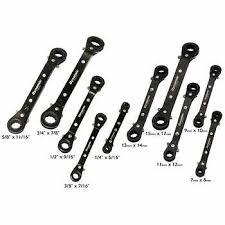wrench: (38, 34, 104, 129), (5, 46, 67, 134), (150, 40, 199, 130), (56, 74, 104, 153), (125, 63, 168, 142), (161, 81, 199, 162), (68, 111, 107, 182), (194, 108, 224, 176), (191, 63, 221, 126), (101, 99, 131, 154)
